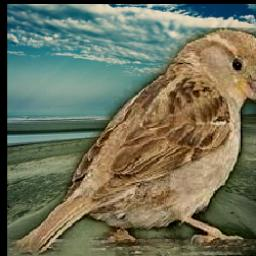Sparrow: (9, 29, 256, 256)
